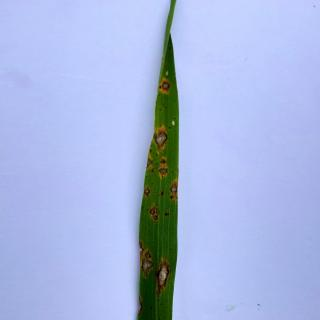Blast: (150, 255, 173, 293), (138, 246, 157, 276), (150, 122, 170, 150), (166, 175, 182, 202), (156, 74, 172, 94), (145, 201, 159, 221), (158, 162, 171, 178), (142, 182, 154, 198), (157, 154, 170, 168)
